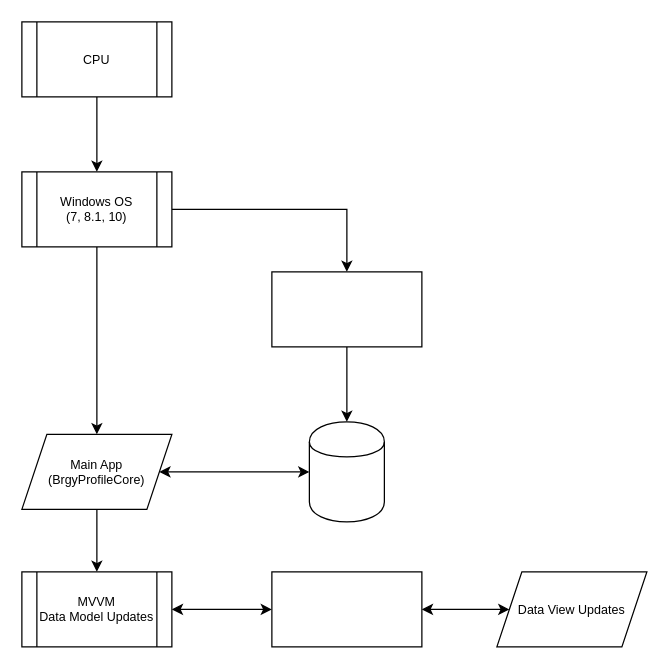
This 669x669 diagram has some shape labels left out. The centre of each missing label's shape, as x and y in pixels:
"App DB" belongs at point (346, 471).
"SQLite DB Executable" belongs at point (346, 309).
"Triggers Data Update" belongs at point (346, 609).
